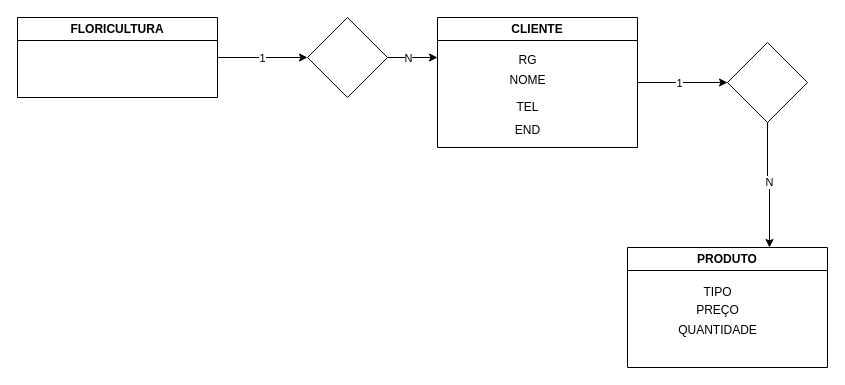
Some shapes in this 845 by 385 pixel diagram are drawn without their labels. Here are the shapes that lost their labels. From the top down, the centre of each, then its label:
At (x=347, y=57): "TEM".
At (x=767, y=82): "COMPRA".
